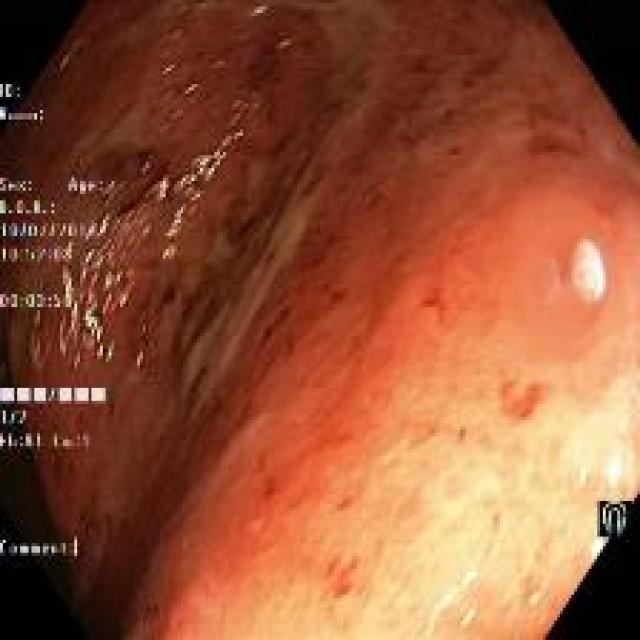ulcerative-colitis-grade-2-3: (0, 3, 640, 639)
